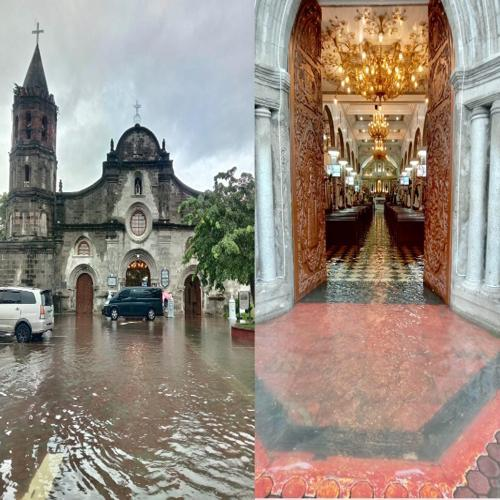Barasoain Church: (7, 24, 253, 332)
